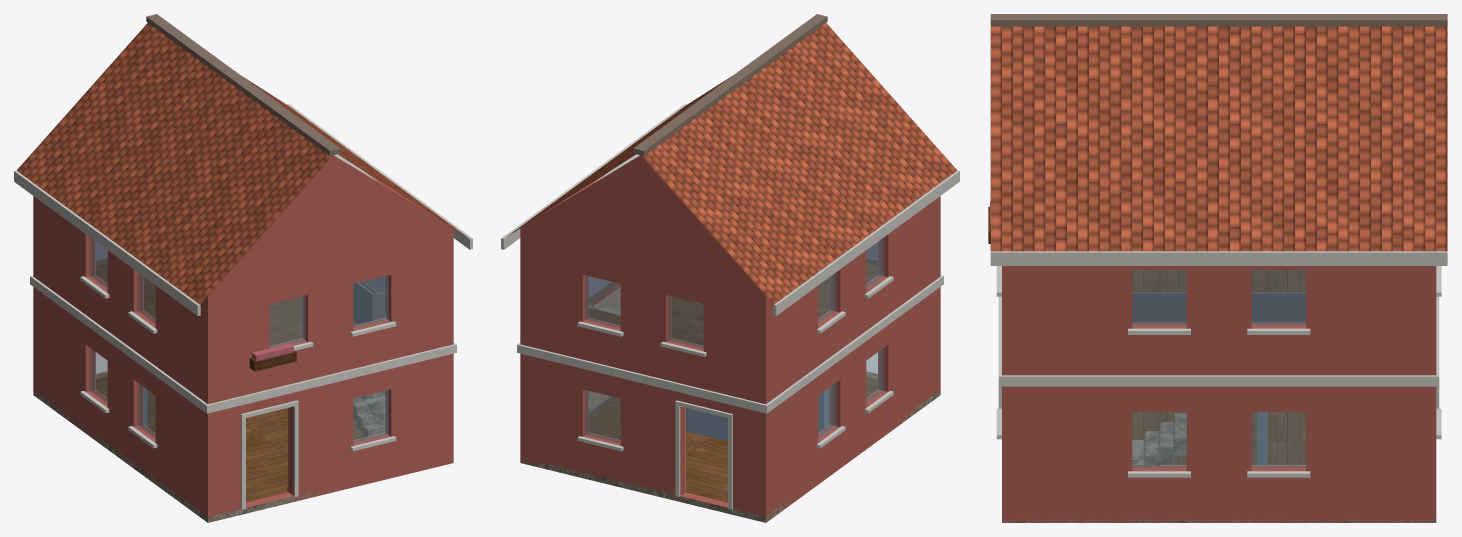
Rendered from cove-house-red.coast-v1.lod0.glb.
3 renders of one model, left to right at view 1: azimuth 30°, elevation 25°; view 2: azimuth 150°, elevation 25°; view 3: azimuth 270°, elevation 25°, orthographic. The views are drawn at different scales.
Visible parts, largest first — view 1: cove-house-red; view 2: cove-house-red; view 3: cove-house-red.
Boxes of the visible parts, box(x1,y1,x2,y2) form: cove-house-red: box(14, 14, 472, 522); cove-house-red: box(501, 14, 959, 522); cove-house-red: box(988, 14, 1447, 522).
Size of the model in its own units: 7.28 by 8.77 by 8.46.
5 materials, 3 textured.
